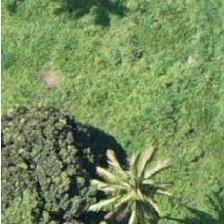coconut_tree: (79, 135, 169, 223), (85, 154, 175, 223)
